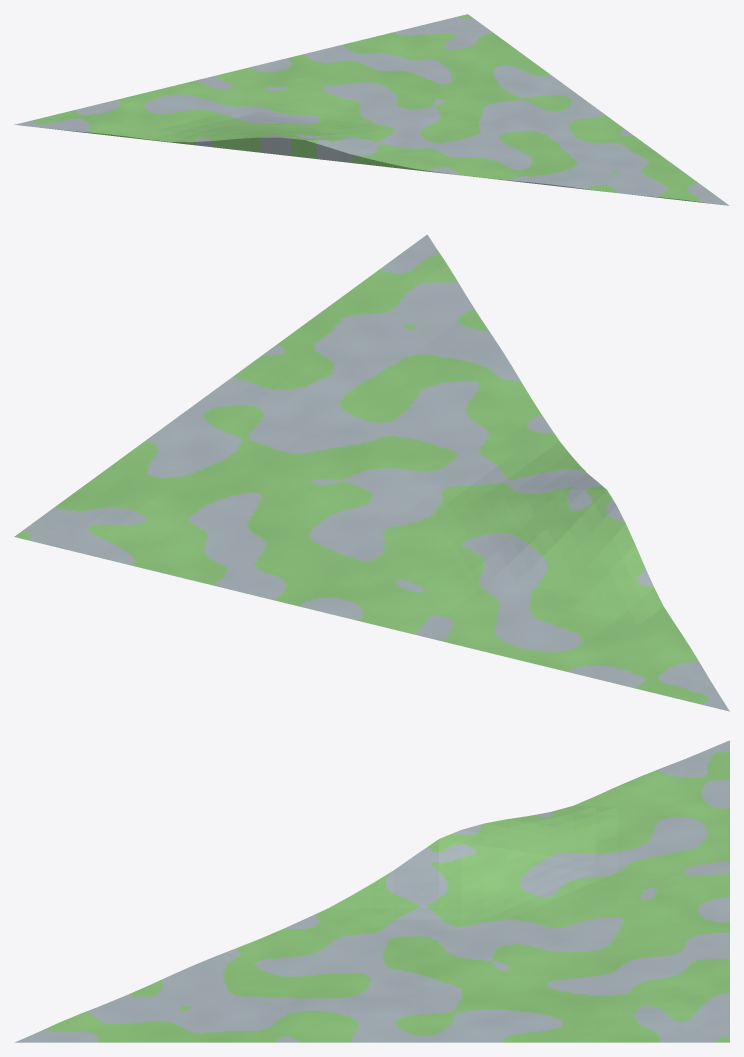
Rendered from Grass_RockyGround_07_SE.obj.
3 renders of one model, top to bottom at view 1: azimuth 30°, elevation 25°; view 2: azimuth 150°, elevation 25°; view 3: azimuth 270°, elevation 25°, orthographic. The views are drawn at different scales.
Bounding box in the file's own units: 10 × 0.3721 × 10.
Materials: 1 (1 with a texture image).
